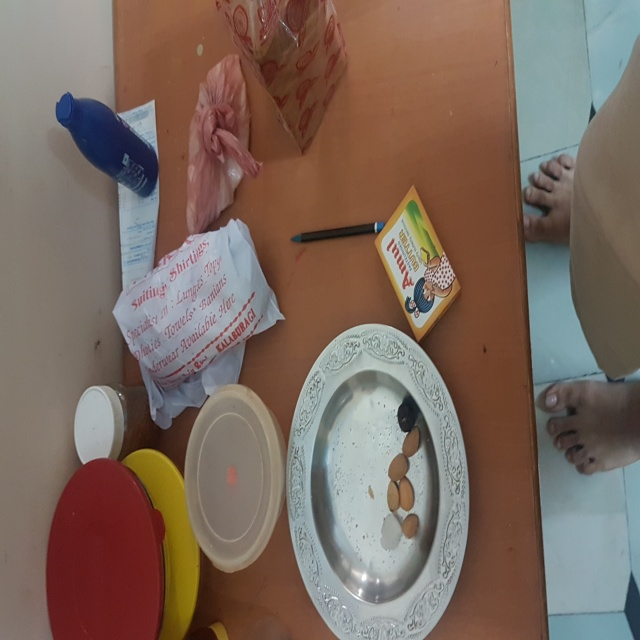butter: (373, 190, 461, 338)
